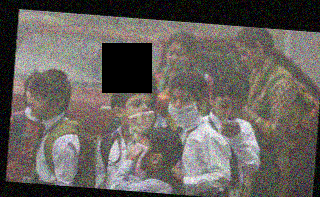mask_weared_incorrect: (168, 91, 198, 127), (164, 46, 190, 71)
with_mask: (133, 140, 153, 173)
without_mask: (124, 96, 152, 126), (212, 98, 244, 122), (28, 90, 50, 117), (236, 45, 255, 69)
